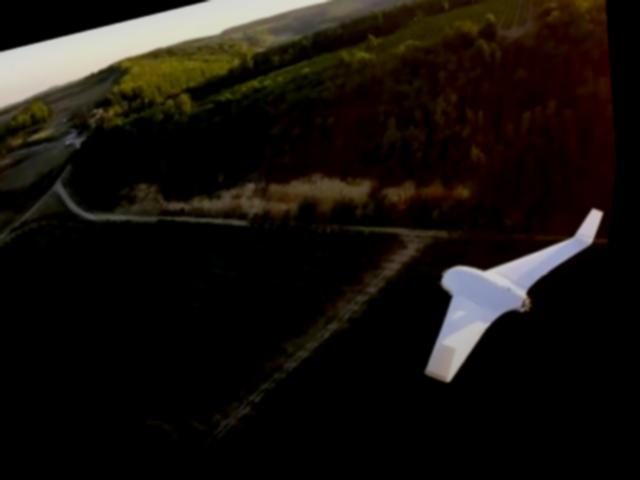iha: (403, 211, 618, 399)
